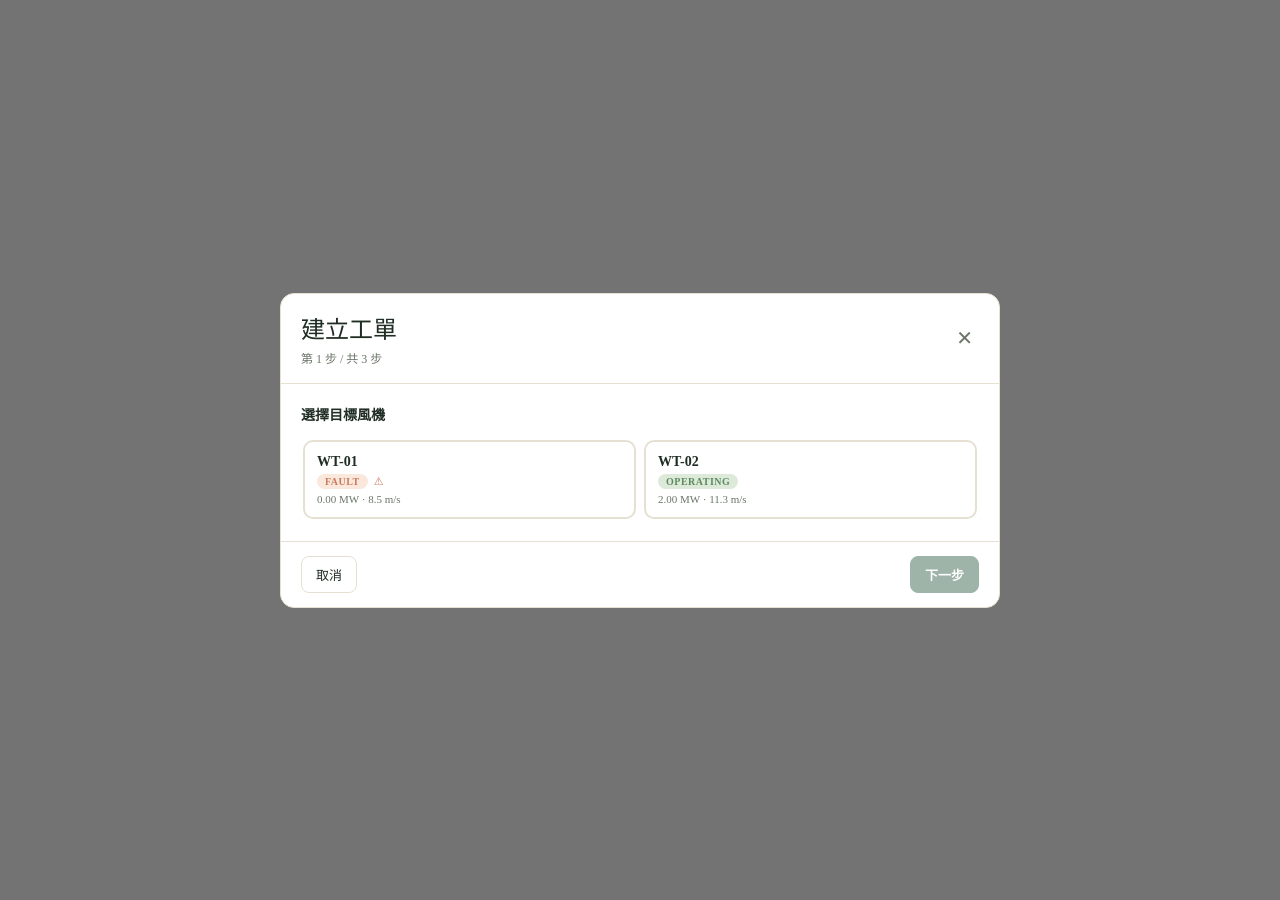
Scenario: CreateWorkOrderWizard — Step 2 工單細節 › title 或 description 任一空白 → 下一步 disabled；皆填 → 啟用
Click the button "WT-01 FAULT ⚠ 0.00 MW · 8.5 m/s" at [337, 461], box [303,440,636,518]
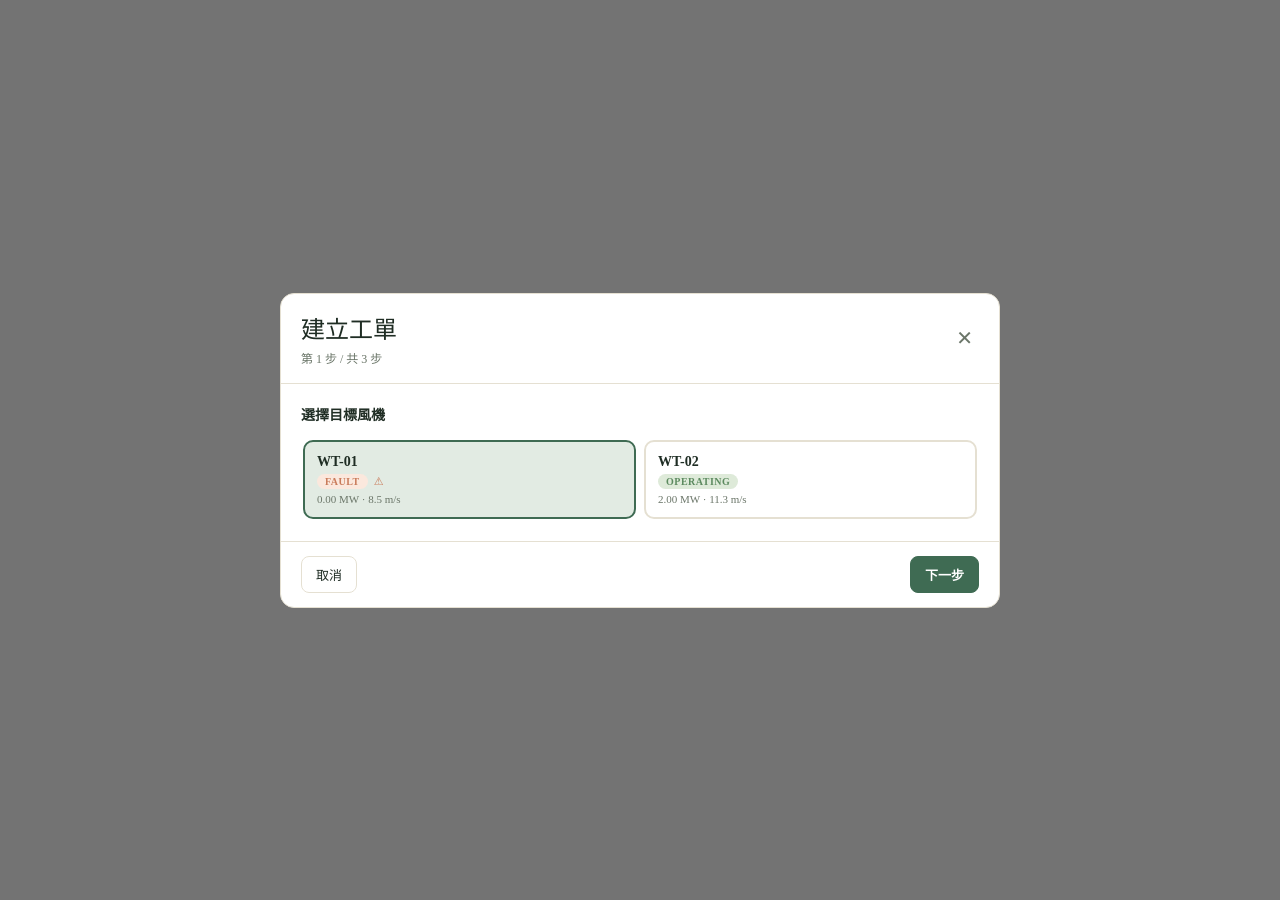
Click the button "下一步" at [944, 574], box [910,556,979,592]
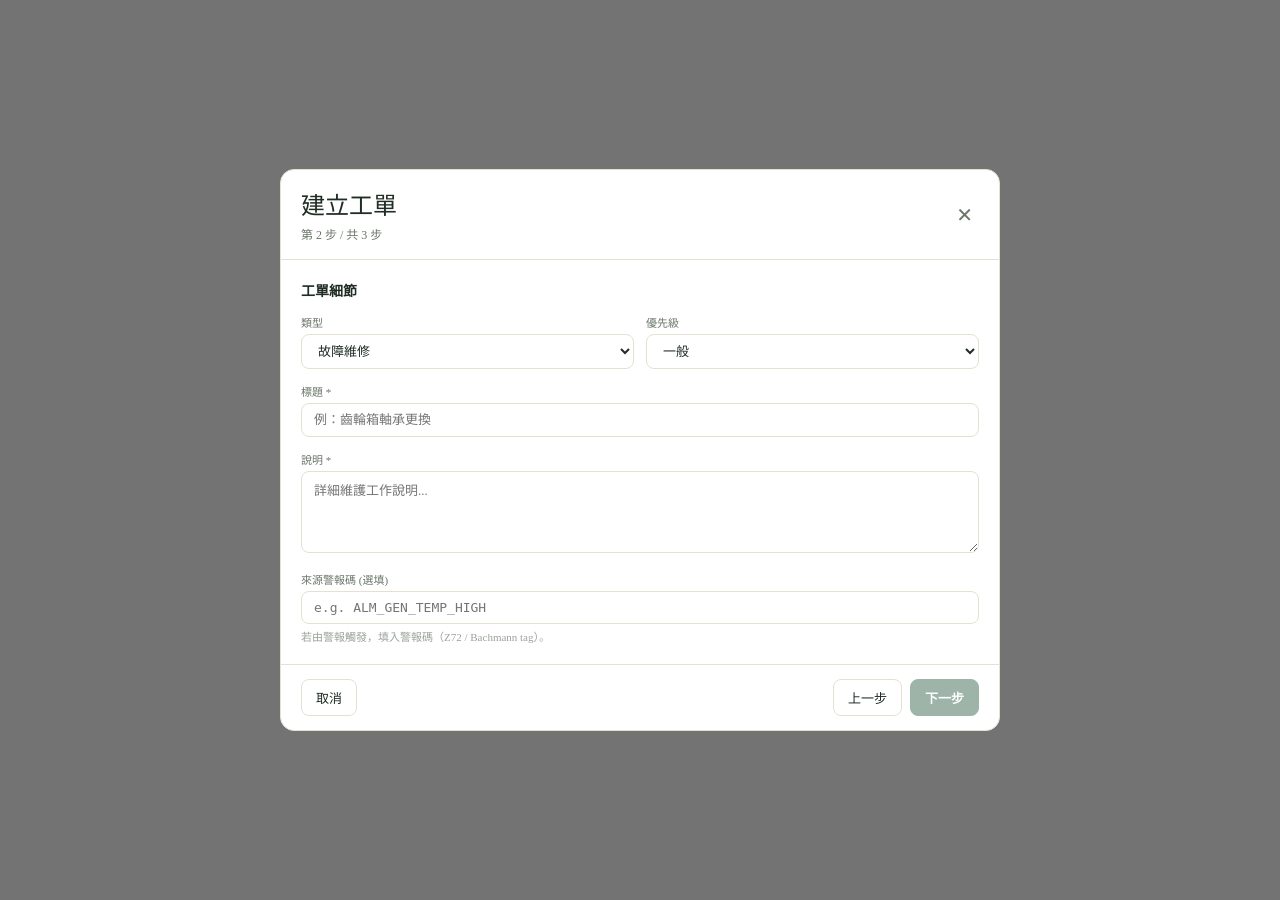
expect the button "下一步" is disabled: met, box [910,679,979,716]
Type "更換軸承" into the field labelled "標題" at [640, 420], box [301,403,979,437]
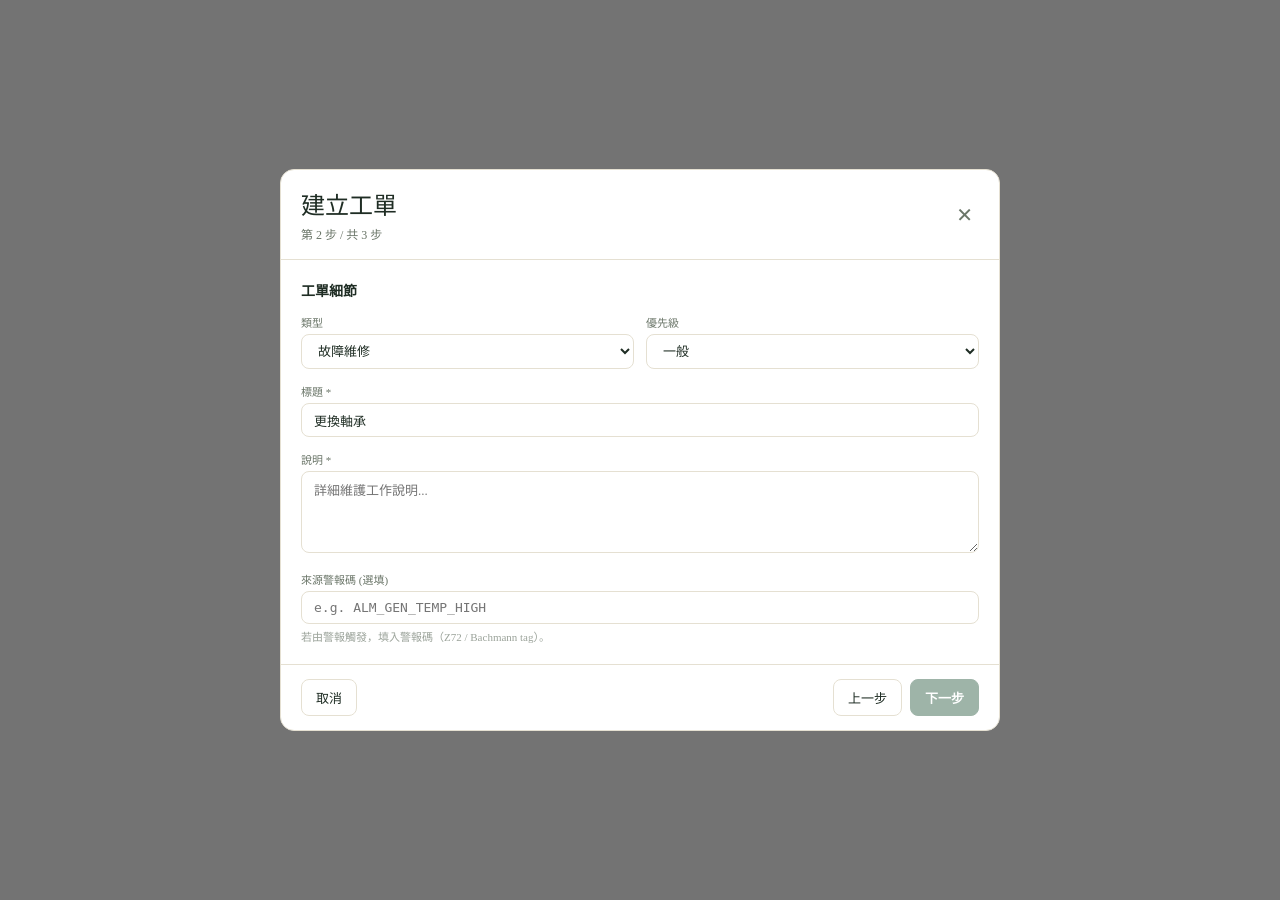
expect the button "下一步" is disabled: met, box [910,679,979,716]
Type "詳細說明" into the text box labelled "說明" at [640, 512], box [301,471,979,553]
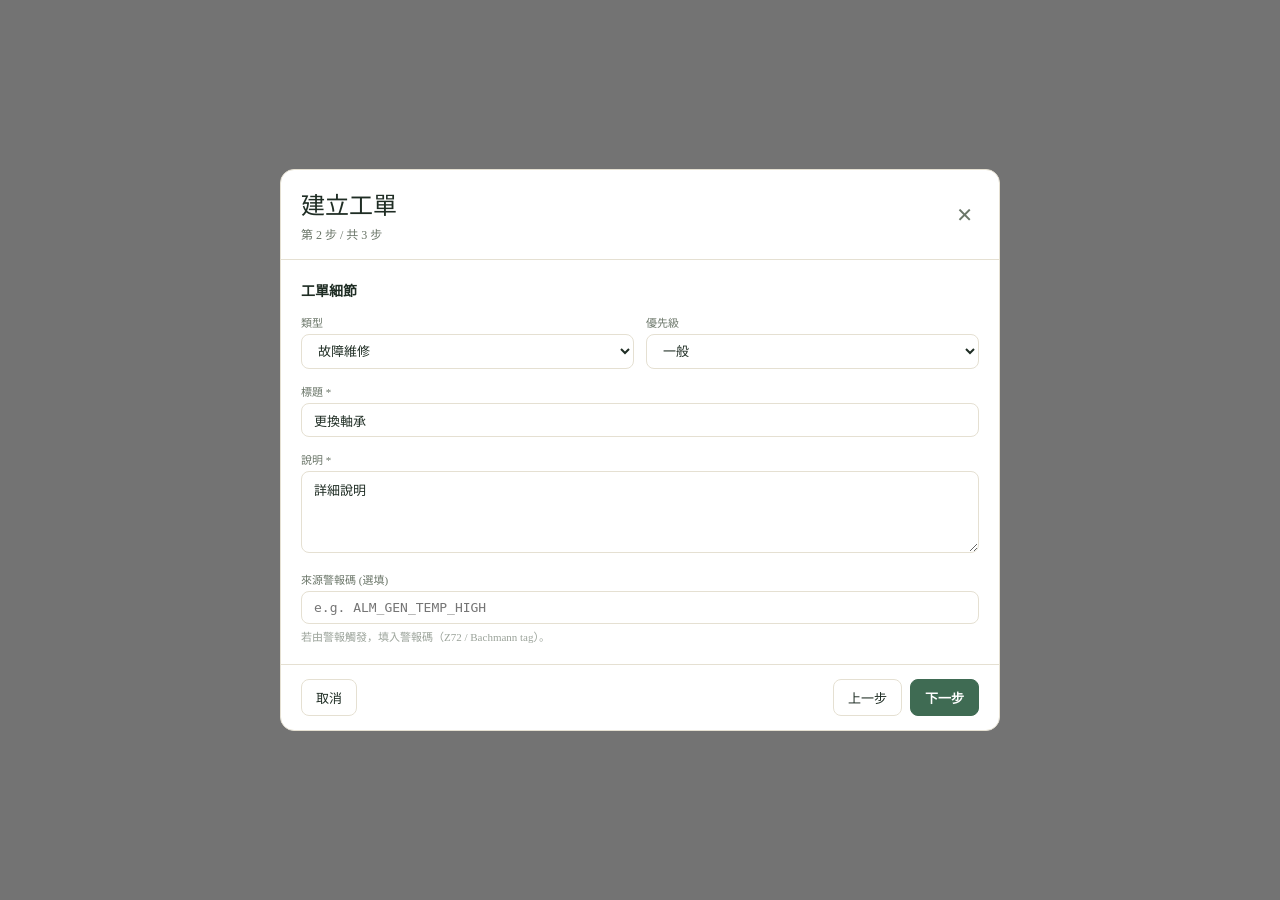
expect the button "下一步" is enabled: met, box [910,679,979,716]
